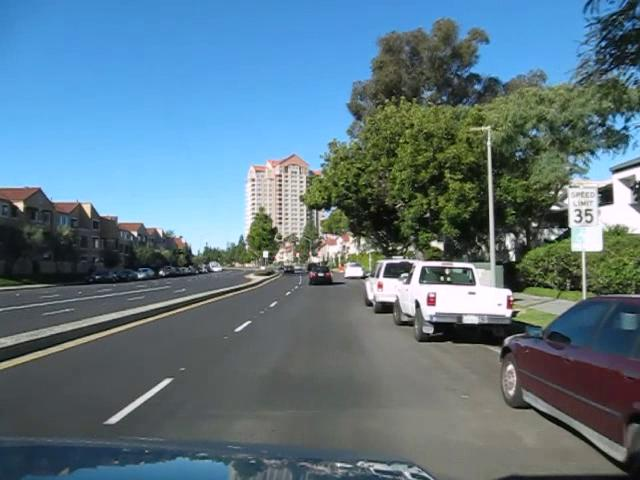speedLimit35: (567, 187, 599, 227)
